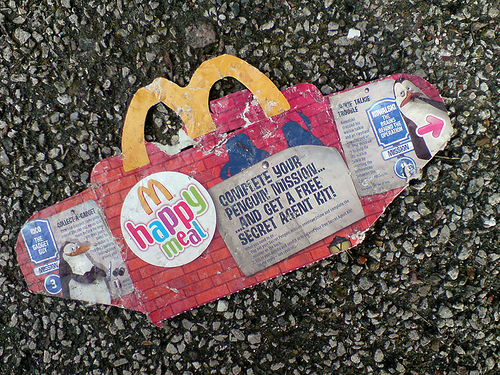litter: (16, 57, 454, 323)
